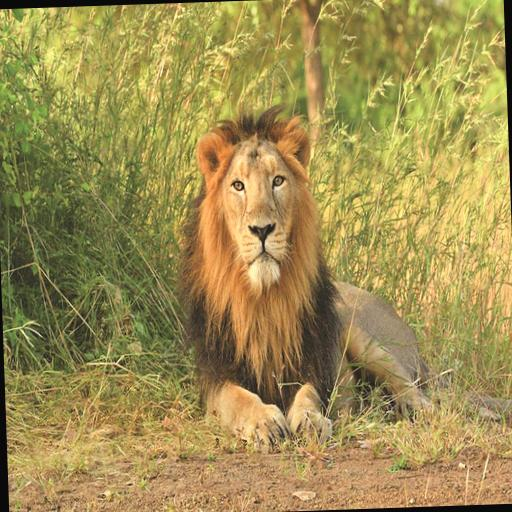lions: (157, 82, 453, 486)
